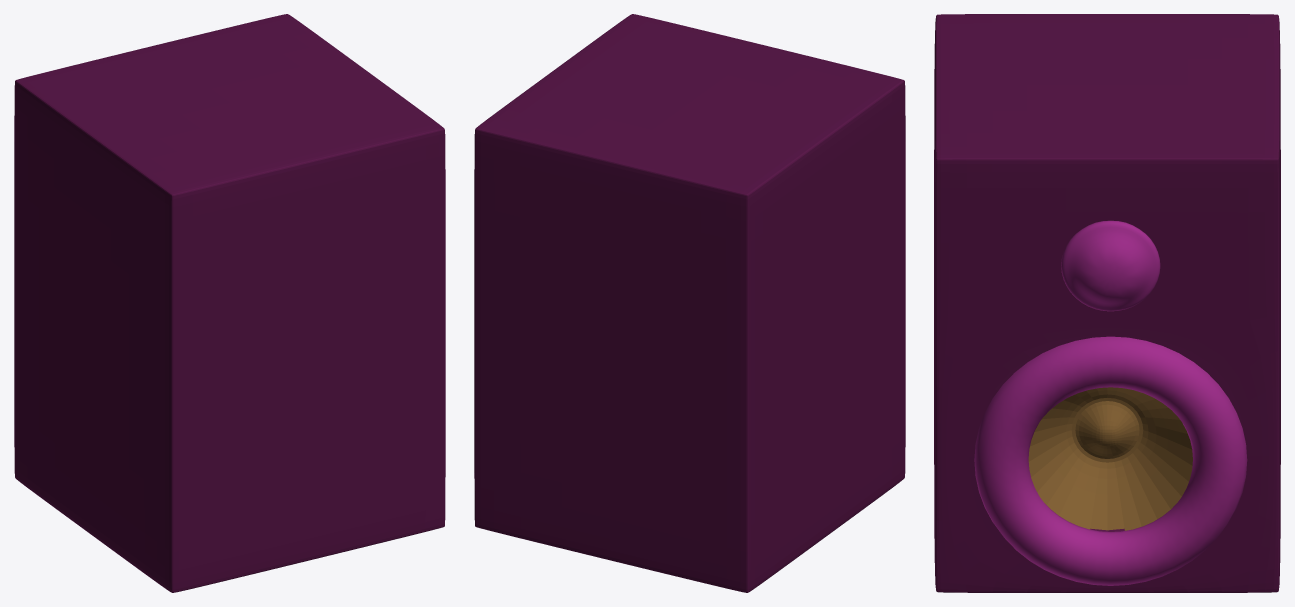
The model's file is Shooter.fbx.
The picture shows the model from 3 angles, left to right: view 1: azimuth 30°, elevation 25°; view 2: azimuth 150°, elevation 25°; view 3: azimuth 270°, elevation 25°; orthographic projection. The views are drawn at different scales.
Visible parts, largest first — view 1: Cube; view 2: Cube; view 3: Cube, Torus, Circle.
Part boxes in pixels (x1,y1,x2,y2): Cube: (14, 14, 445, 592); Cube: (474, 14, 905, 592); Cube: (934, 14, 1280, 592); Torus: (974, 336, 1247, 585); Circle: (1061, 220, 1160, 311).
Bounding box in the file's own units: 54.01 × 67.49 × 48.56.
